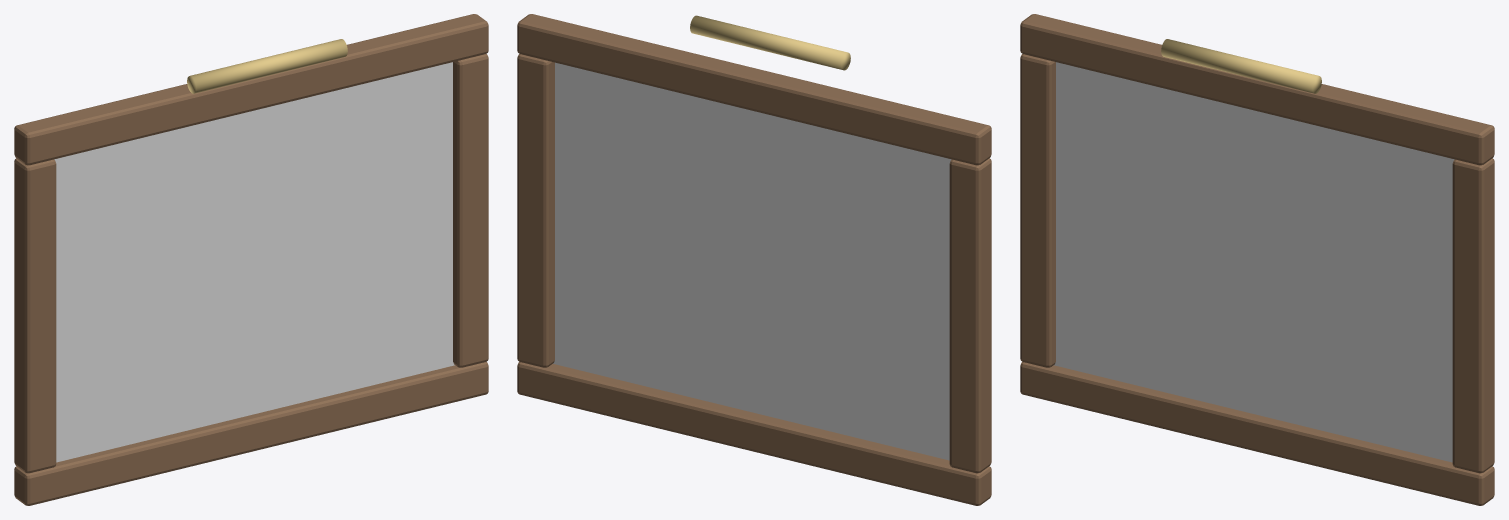
Rendered from painting_framed.glb.
3 renders of one model, left to right at view 1: azimuth 30°, elevation 25°; view 2: azimuth 150°, elevation 25°; view 3: azimuth 330°, elevation 25°, orthographic.
Visible parts, largest first — view 1: CanvasSurface, Frame_0_0.365, Frame_0_-0.365, Frame_-0.485_0, Frame_0.485_0, BrassLight; view 2: CanvasSurface, Frame_0_0.365, Frame_0_-0.365, Frame_-0.485_0, Frame_0.485_0, BrassLight; view 3: CanvasSurface, Frame_0_0.365, Frame_0_-0.365, Frame_0.485_0, Frame_-0.485_0, BrassLight.
Boxes of the visible parts, x1,y1,x2,y2 form: CanvasSurface: [54, 62, 454, 462]; Frame_0_0.365: [14, 14, 488, 165]; Frame_0_-0.365: [14, 362, 488, 505]; Frame_-0.485_0: [14, 158, 56, 473]; Frame_0.485_0: [453, 54, 488, 367]; BrassLight: [187, 39, 347, 93]; CanvasSurface: [553, 62, 951, 460]; Frame_0_0.365: [517, 14, 991, 165]; Frame_0_-0.365: [517, 362, 991, 505]; Frame_-0.485_0: [949, 158, 991, 473]; Frame_0.485_0: [517, 54, 554, 367]; BrassLight: [690, 15, 850, 70]; CanvasSurface: [1054, 62, 1454, 462]; Frame_0_0.365: [1020, 14, 1494, 165]; Frame_0_-0.365: [1020, 362, 1494, 505]; Frame_0.485_0: [1452, 158, 1494, 473]; Frame_-0.485_0: [1020, 54, 1055, 367]; BrassLight: [1161, 39, 1321, 93].
Size of the model in its own units: 1.04 by 0.858 by 0.1075.
